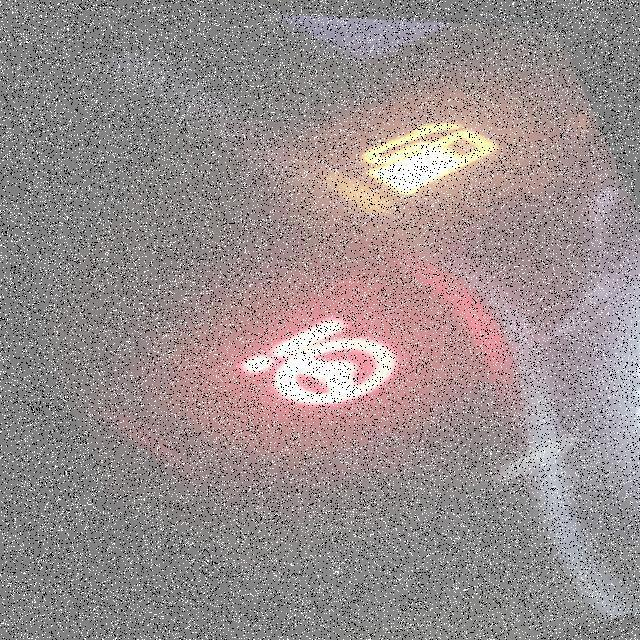Electronic Power Steering: (201, 284, 425, 434)
